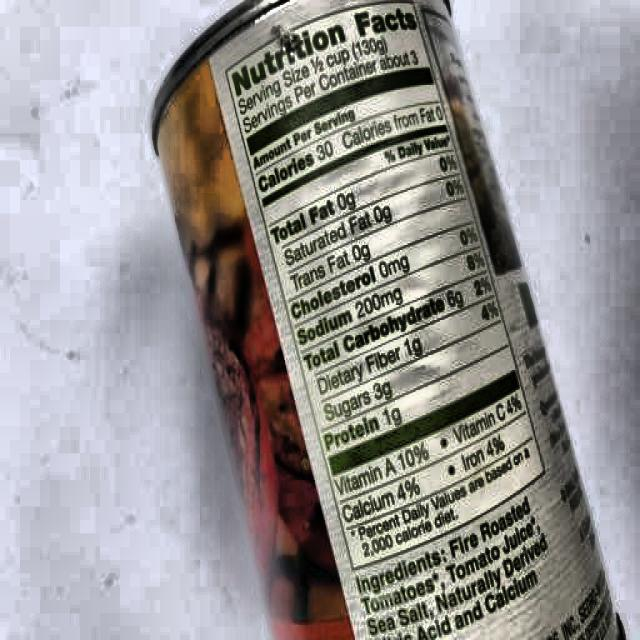metal: (145, 1, 632, 640)
